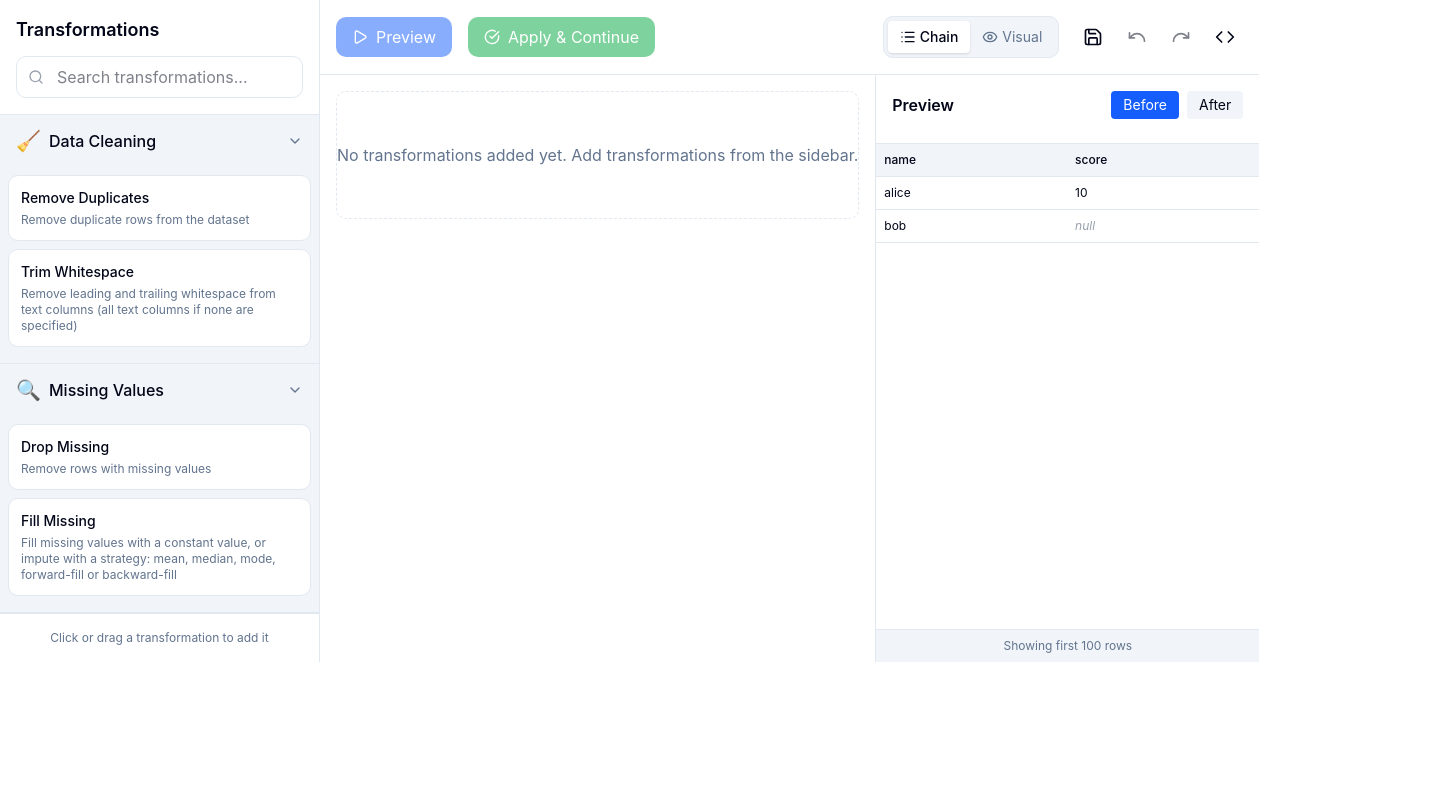
Scenario: TransformationPipeline actions (#855) › shows a failed recipe save on the page, not behind the closed manager
Click the button with aria-label "add trim whitespace".
click(160, 298)  # box 8,249 -> 311,347
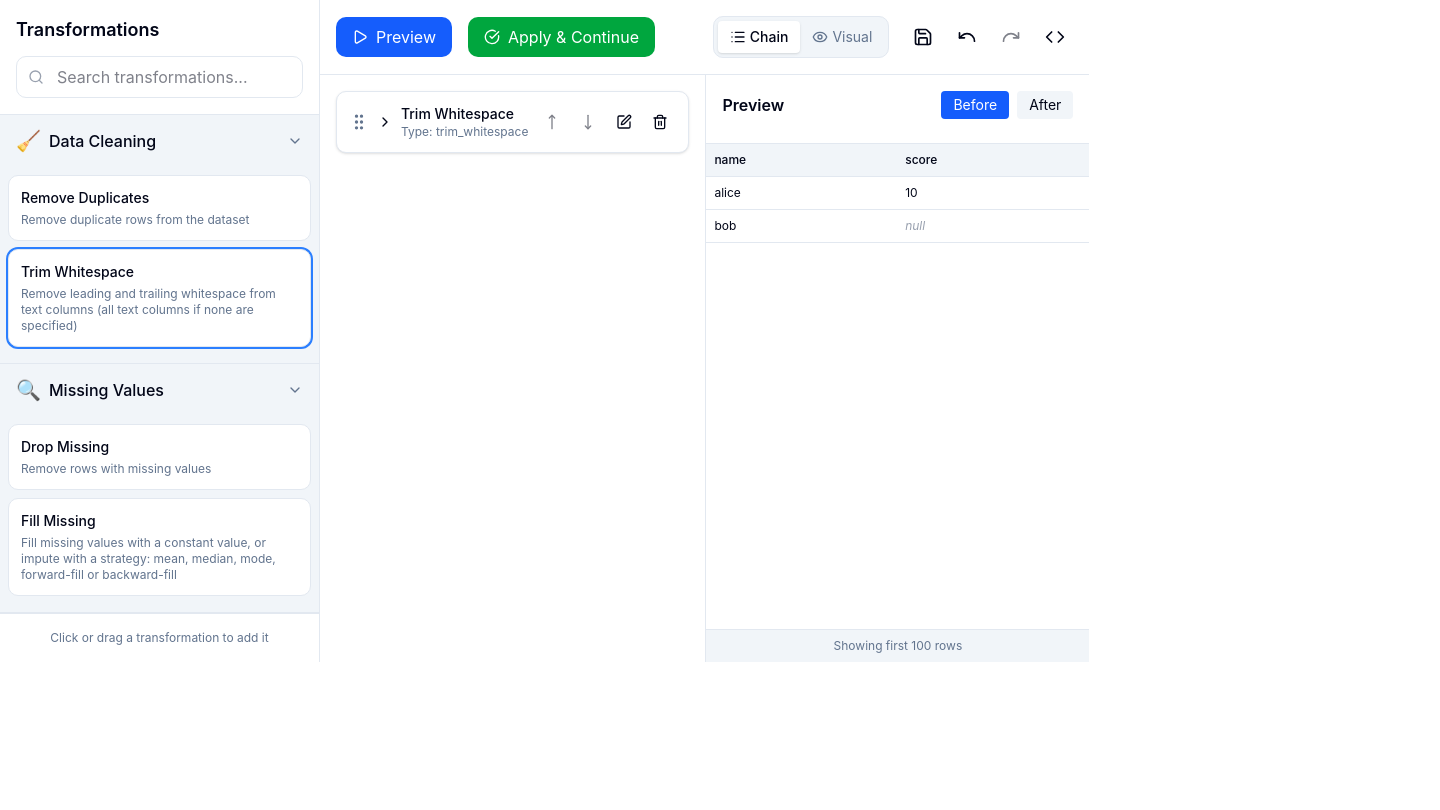
Click the button titled "Manage Recipes".
click(923, 37)  # box 905,19 -> 941,55
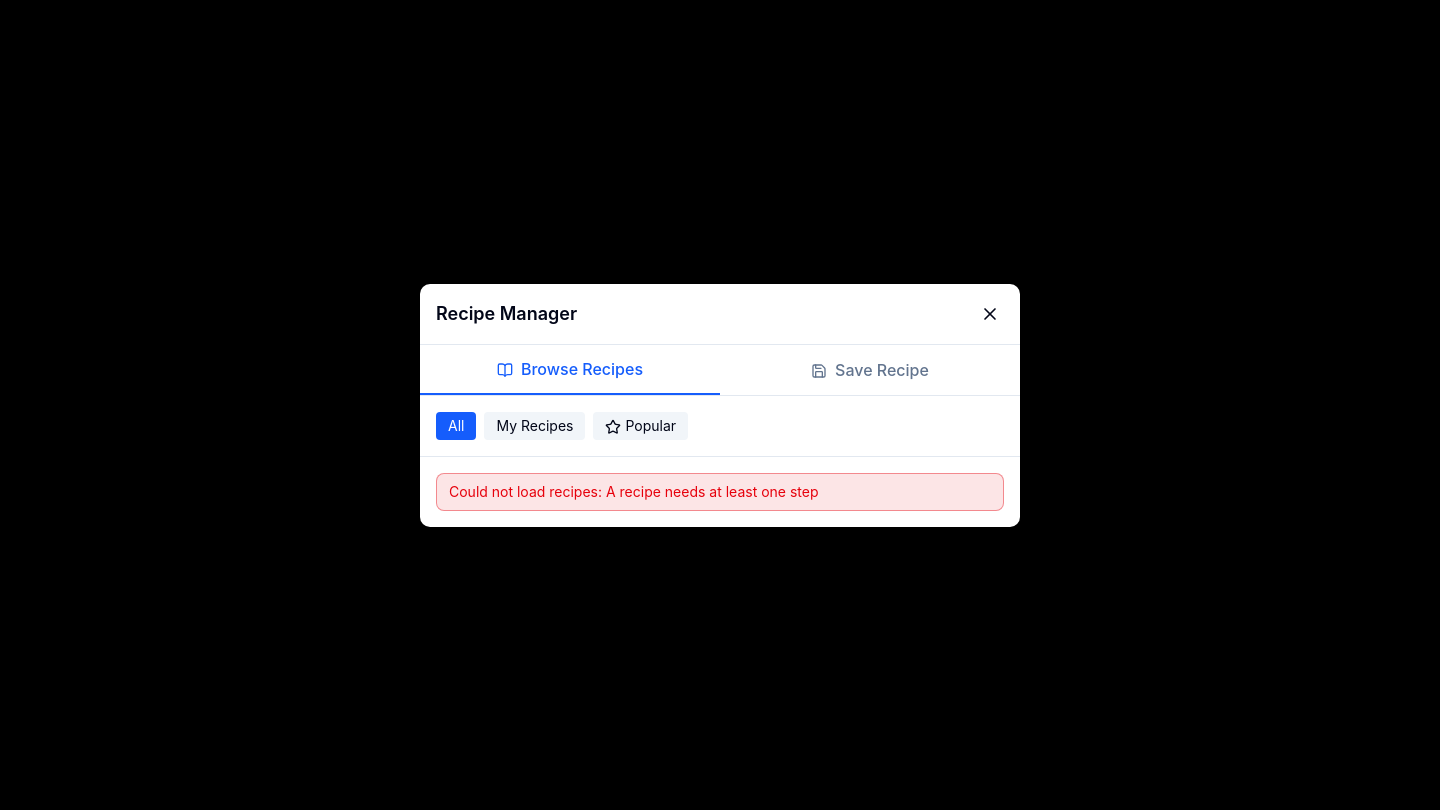
Click the button "Save Recipe".
click(870, 370)  # box 720,344 -> 1020,394
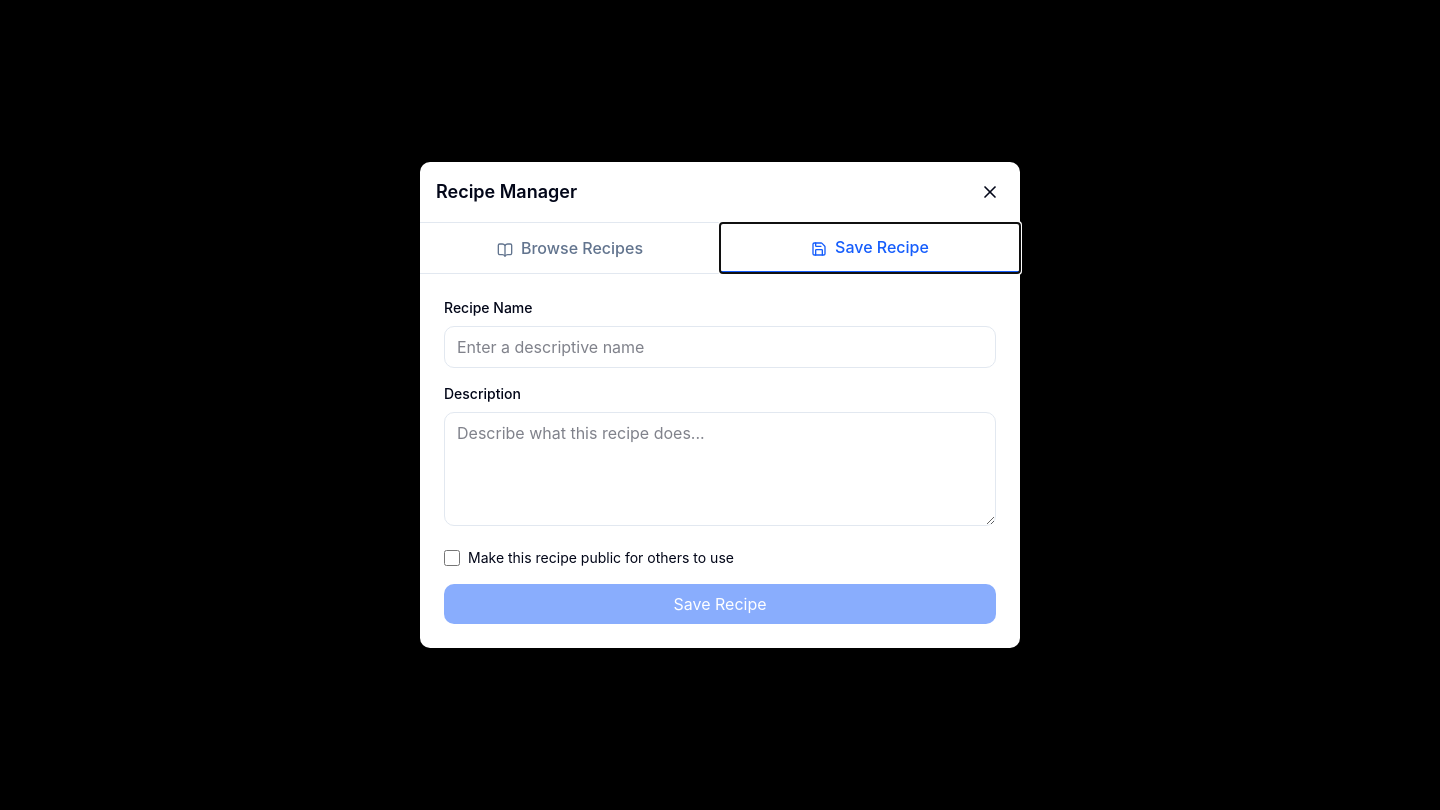
Type "Tidy" into the field with placeholder "Enter a descriptive name".
click(720, 347); type("Tidy")  # box 444,326 -> 996,368
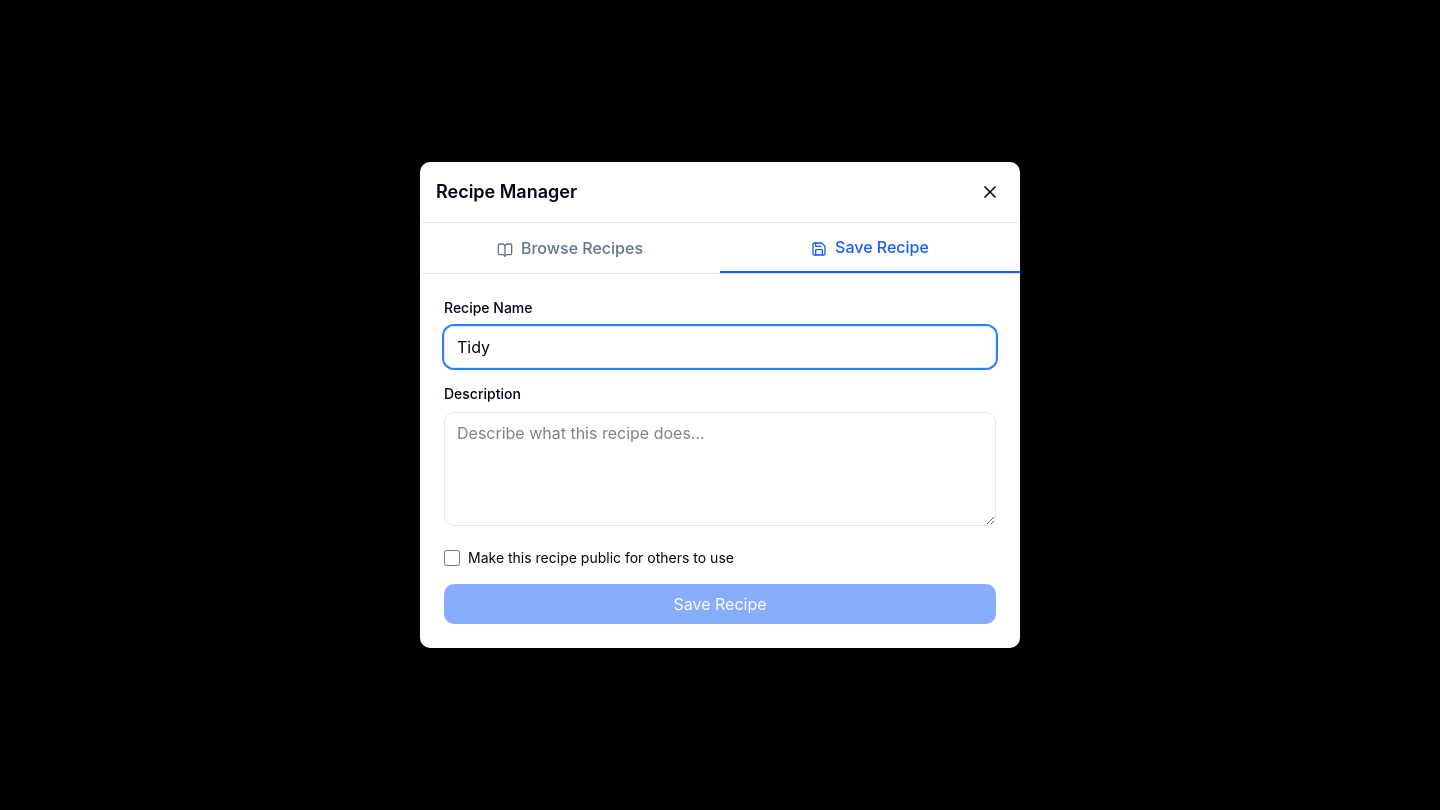
Type "trims" into the text box with placeholder "Describe what this recipe does...".
click(720, 469); type("trims")  # box 444,412 -> 996,526
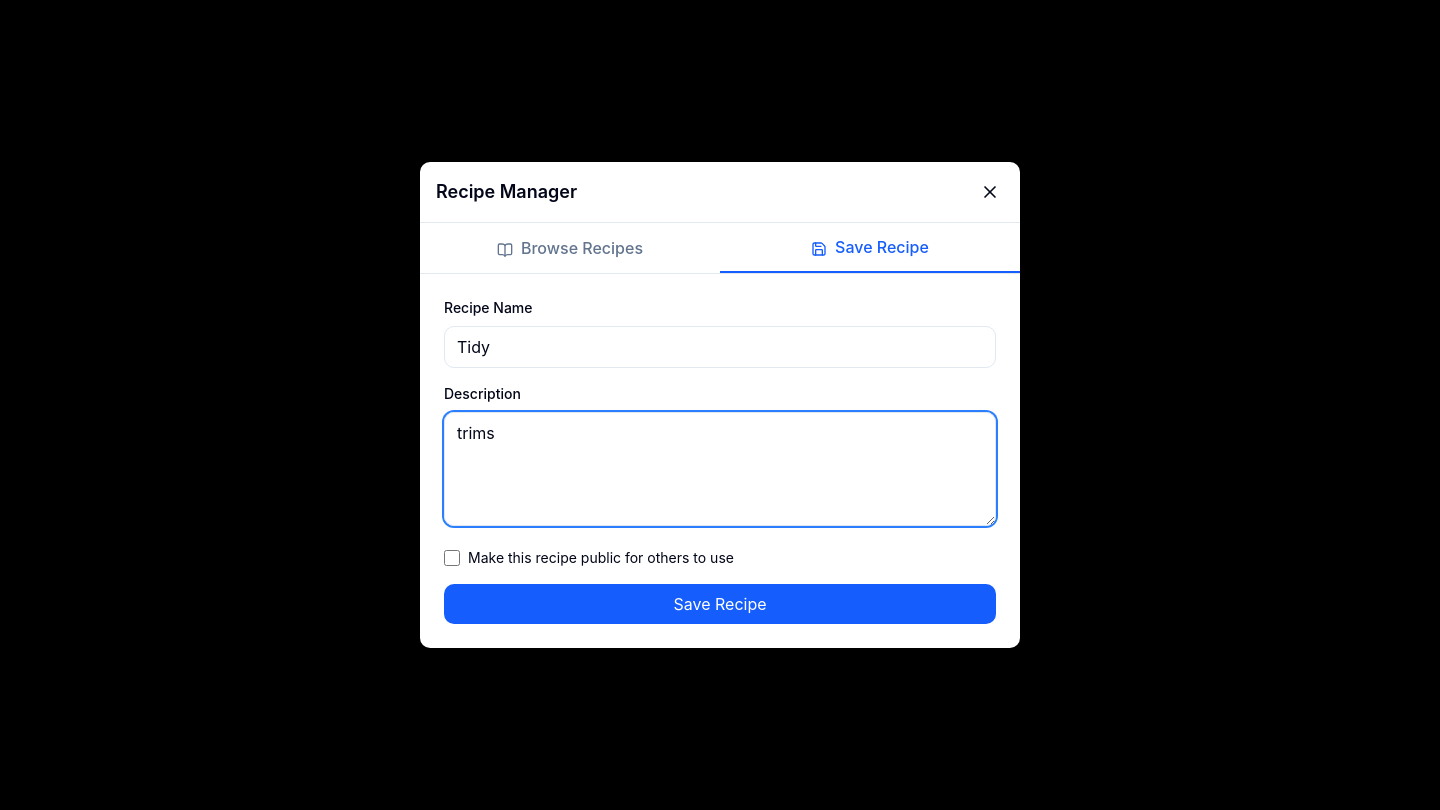
Click the button "Save Recipe" below "Description".
click(720, 604)  # box 444,584 -> 996,624
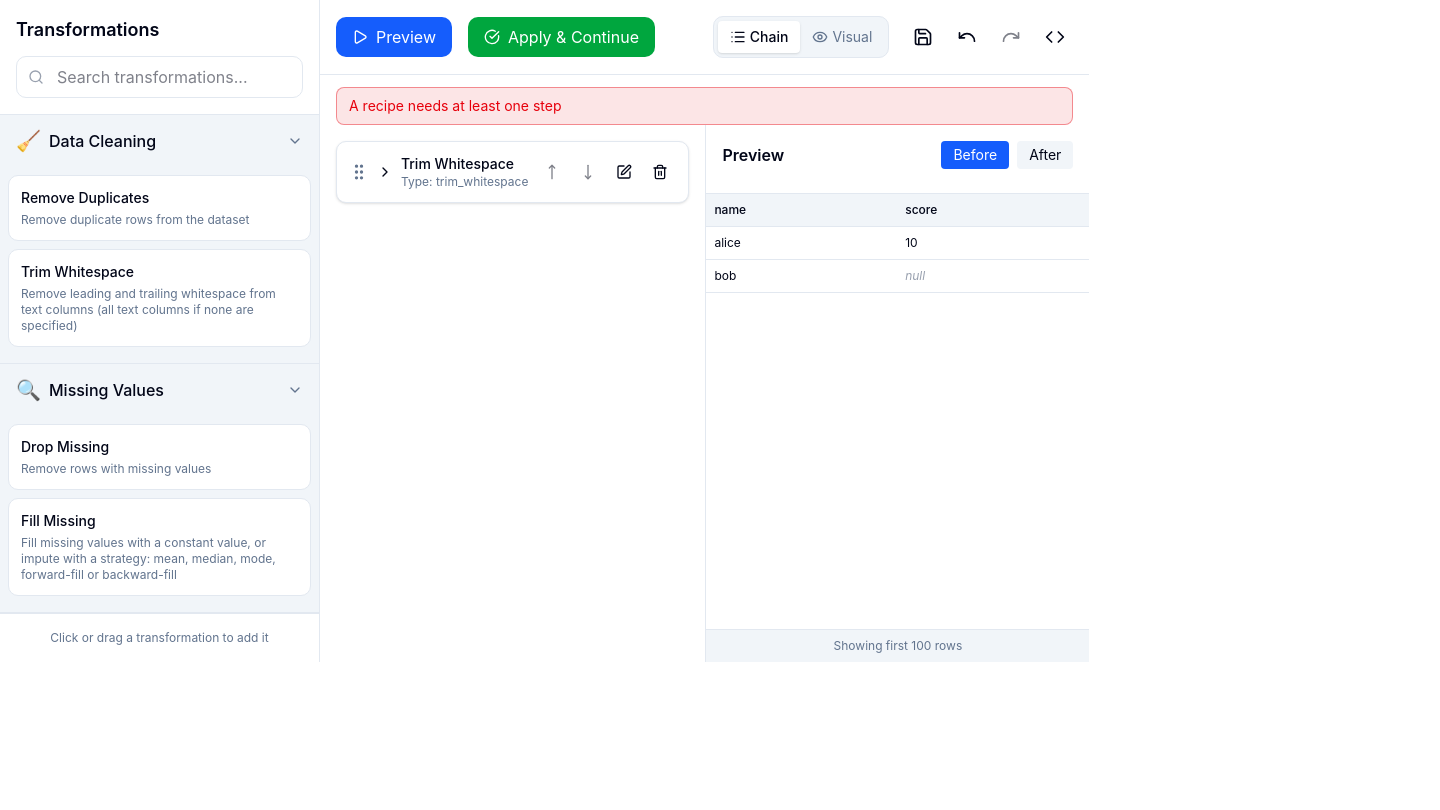
Result: the message with test id "pipeline-error" reads "A recipe needs at least one step" at 349,97 -> 562,114
Result: the heading "Recipe Manager" is gone
